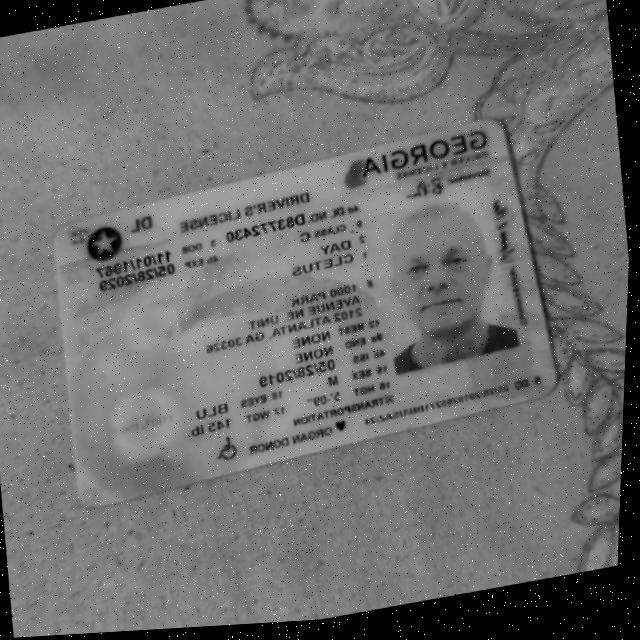card: (55, 122, 555, 505)
